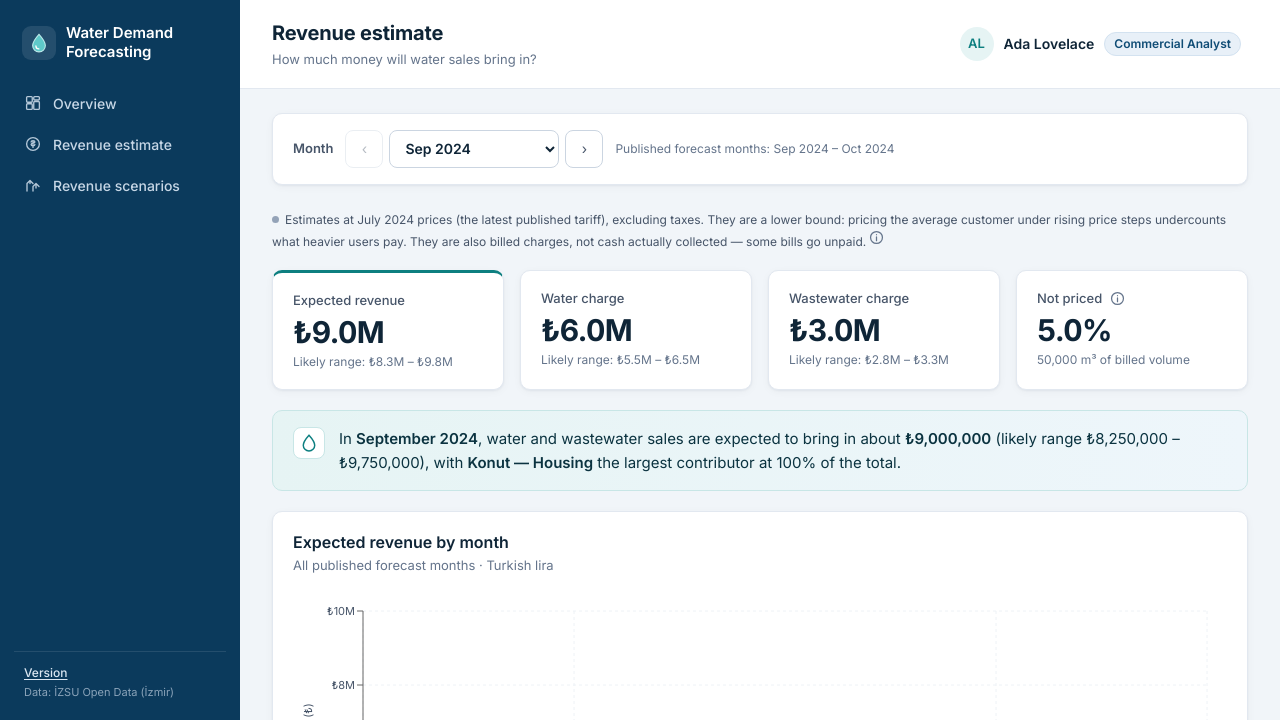
changing the month updates the KPI cards
expect the text "₺9.0M" is shown: met, box [293,314,384,350]
Select "Oct 2024" in the dropdown labelled "Month" at (474, 148), box [389,130,559,168]
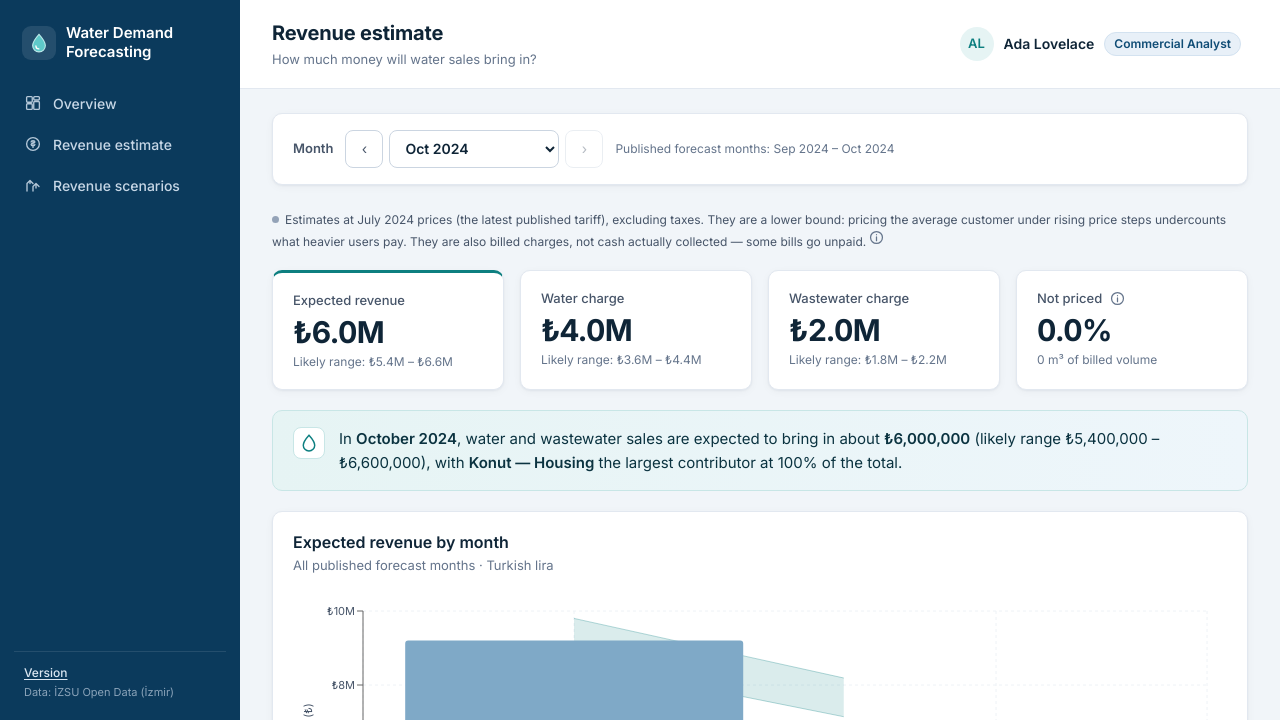
expect the text "₺6.0M" is shown: met, box [293,314,384,350]
